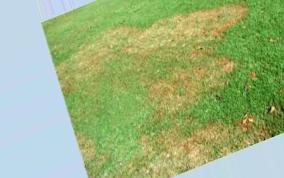patch: (138, 8, 238, 40), (146, 130, 209, 163), (149, 79, 203, 114), (73, 50, 123, 83)
